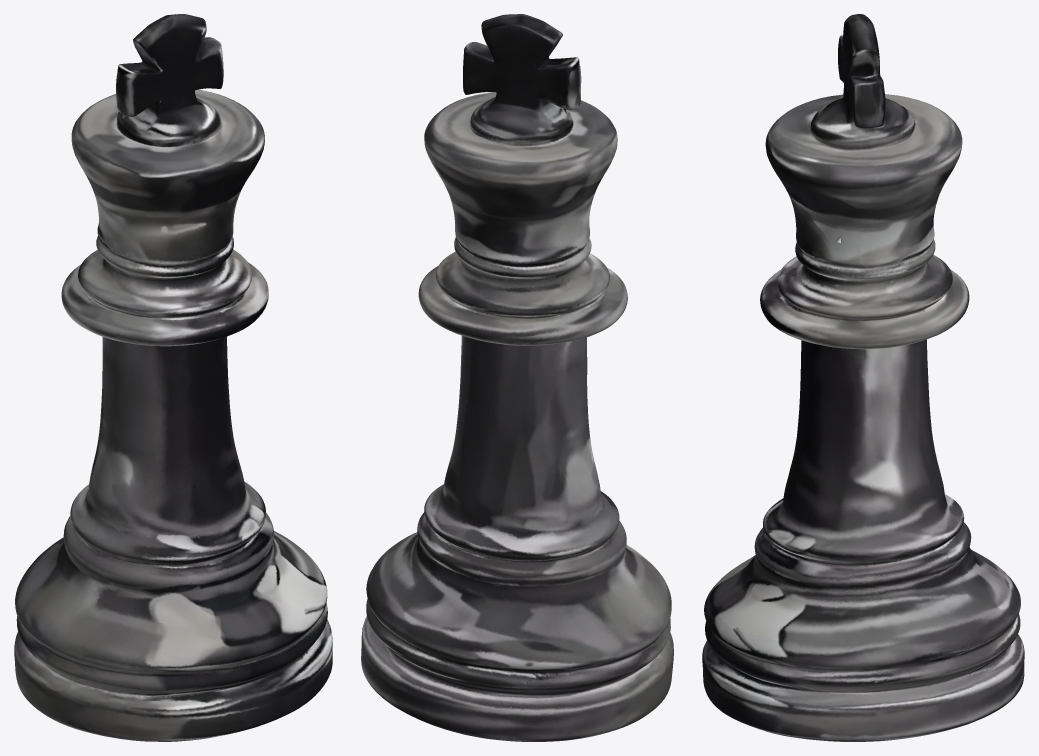
File: king.glb
3 views of the same model, side by side, from view 1: azimuth 30°, elevation 25°; view 2: azimuth 150°, elevation 25°; view 3: azimuth 270°, elevation 25° (orthographic).
Visible parts, largest first — view 1: king; view 2: king; view 3: king.
Boxes of the visible parts, bbox=[...] form: king: bbox=[14, 14, 332, 741]; king: bbox=[361, 14, 673, 741]; king: bbox=[702, 14, 1024, 741].
Bounding box in the file's own units: 0.21 × 0.4938 × 0.213.
Materials: 1 (1 with a texture image).
